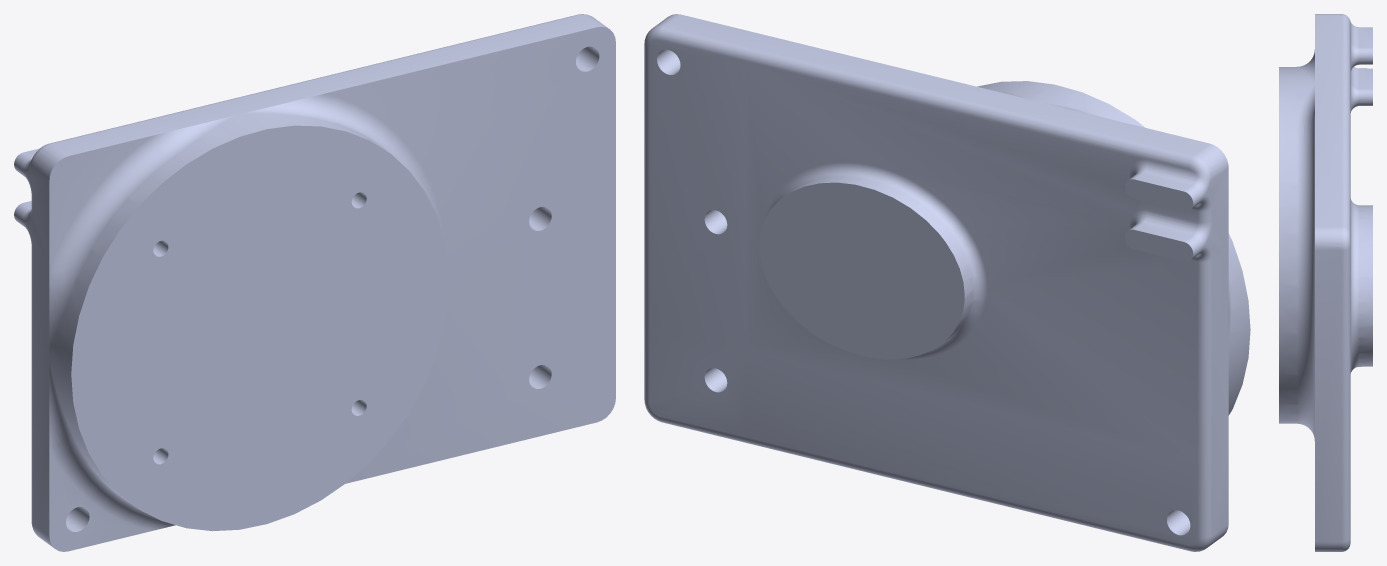
Rendered from small_needle_hoder_base_1.dae.
3 renders of one model, left to right at view 1: azimuth 30°, elevation 25°; view 2: azimuth 150°, elevation 25°; view 3: azimuth 270°, elevation 25°, orthographic. The views are drawn at different scales.
Visible parts, largest first — view 1: node0; view 2: node0; view 3: node0.
Part boxes in pixels (x1,y1,x2,y2): node0: [14, 14, 615, 551]; node0: [644, 14, 1250, 551]; node0: [1279, 14, 1372, 551].
Bounding box in the file's own units: 0.06 × 0.04 × 0.0105.
